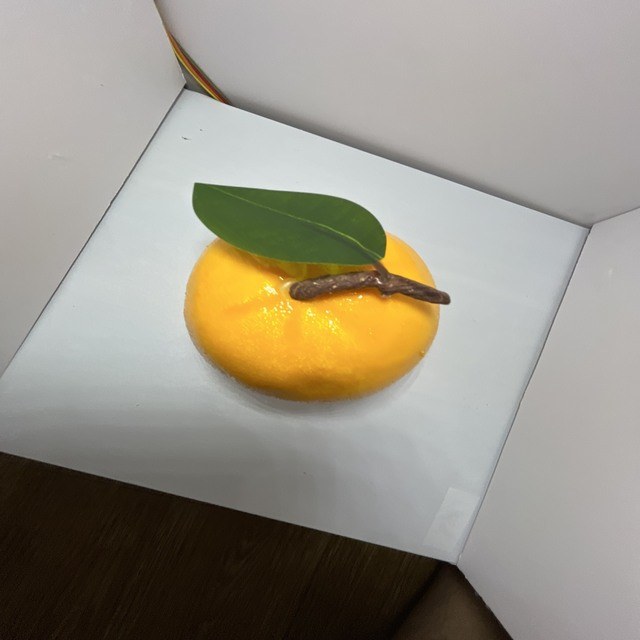Cam vang: (182, 190, 450, 408)
